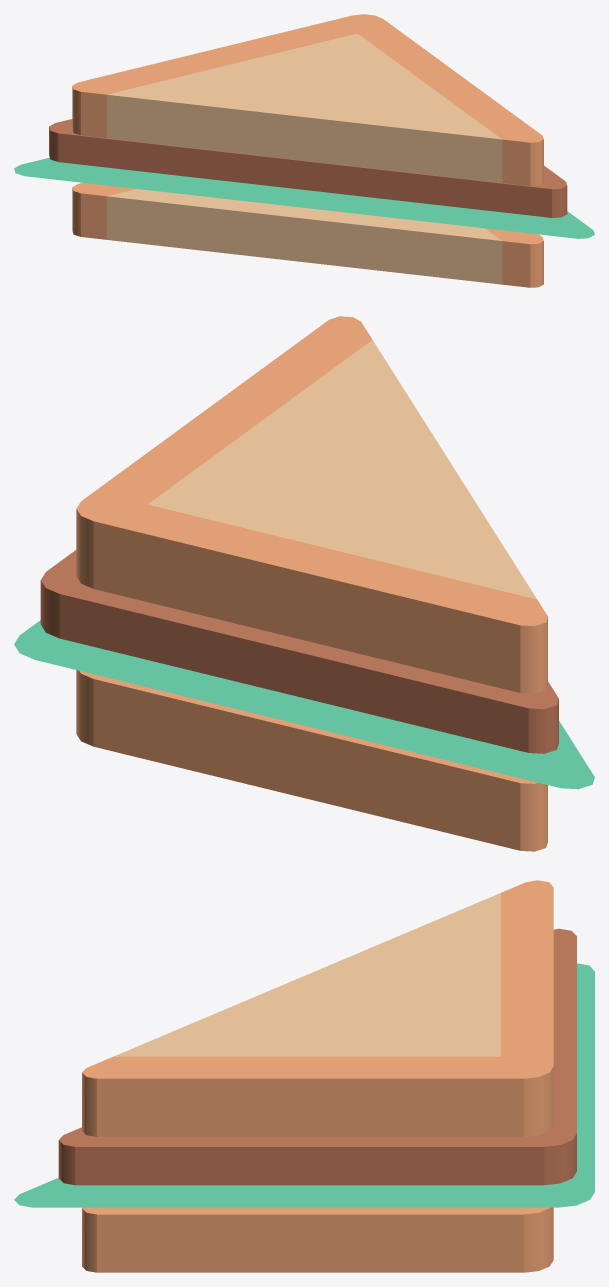
Rendered from sandwich.obj.
3 renders of one model, top to bottom at view 1: azimuth 30°, elevation 25°; view 2: azimuth 150°, elevation 25°; view 3: azimuth 270°, elevation 25°, orthographic. The views are drawn at different scales.
Visible parts, largest first — view 1: sandwich, meat, lettuce; view 2: sandwich, meat, lettuce; view 3: sandwich, meat, lettuce.
Boxes of the visible parts, x1,y1,x2,y2 form: sandwich: (72, 14, 543, 287); meat: (49, 119, 567, 217); lettuce: (14, 157, 594, 238); sandwich: (76, 316, 547, 851); meat: (40, 550, 558, 753); lettuce: (14, 620, 594, 789); sandwich: (82, 880, 553, 1272); meat: (58, 928, 576, 1185); lettuce: (14, 963, 594, 1207).
Size of the model in its own units: 0.4323 by 0.1598 by 0.4339.
